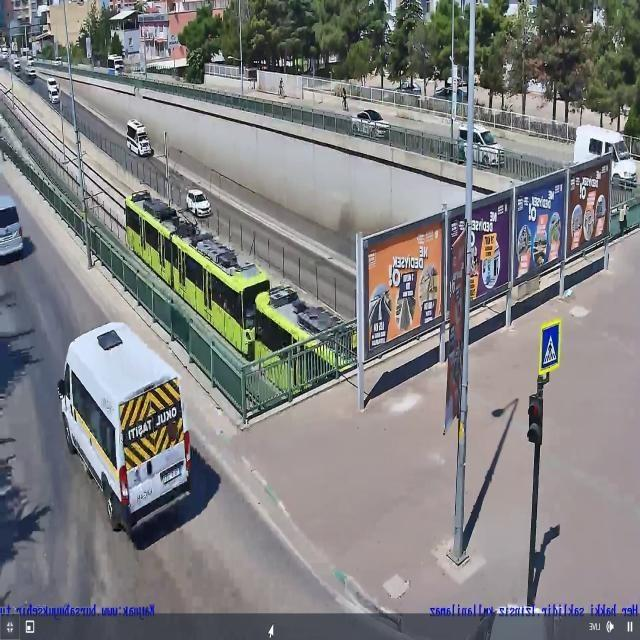Bus: (126, 119, 152, 158)
Car: (0, 194, 25, 257), (350, 107, 393, 139), (180, 191, 216, 216), (48, 88, 61, 104)
Van: (58, 318, 194, 539), (568, 122, 639, 190)
